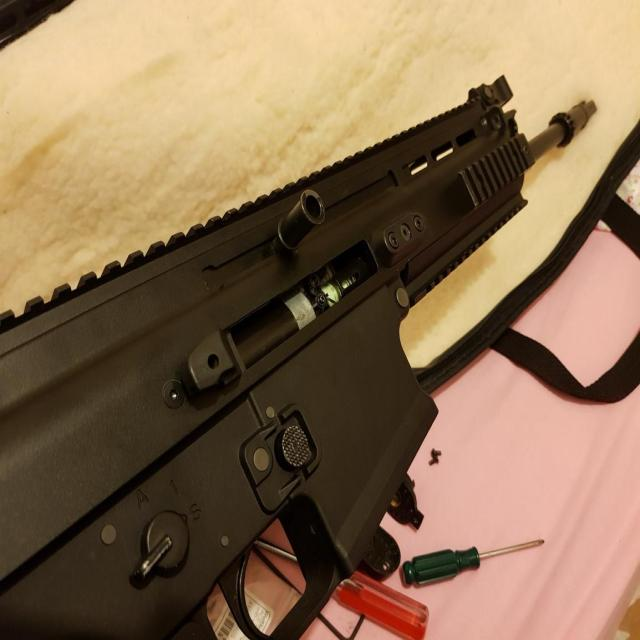Gun: (13, 103, 597, 602)
